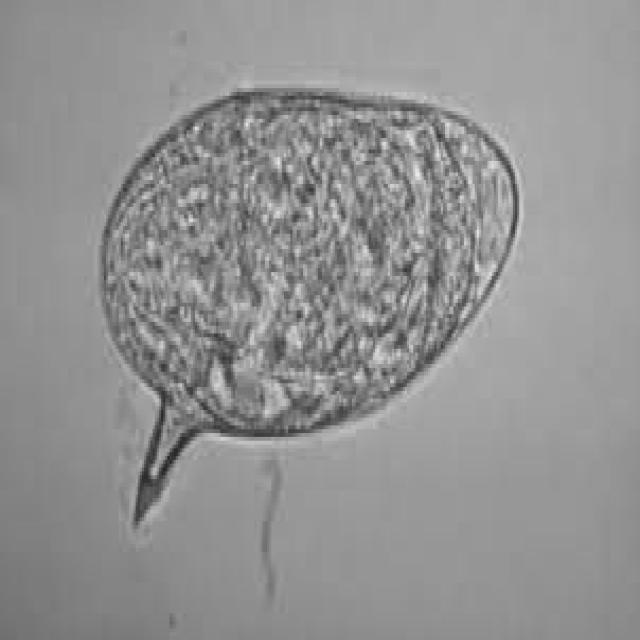Schistosoma: (91, 71, 526, 527)
